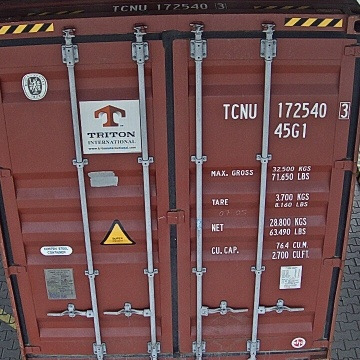serial_id: (223, 101, 350, 118)
